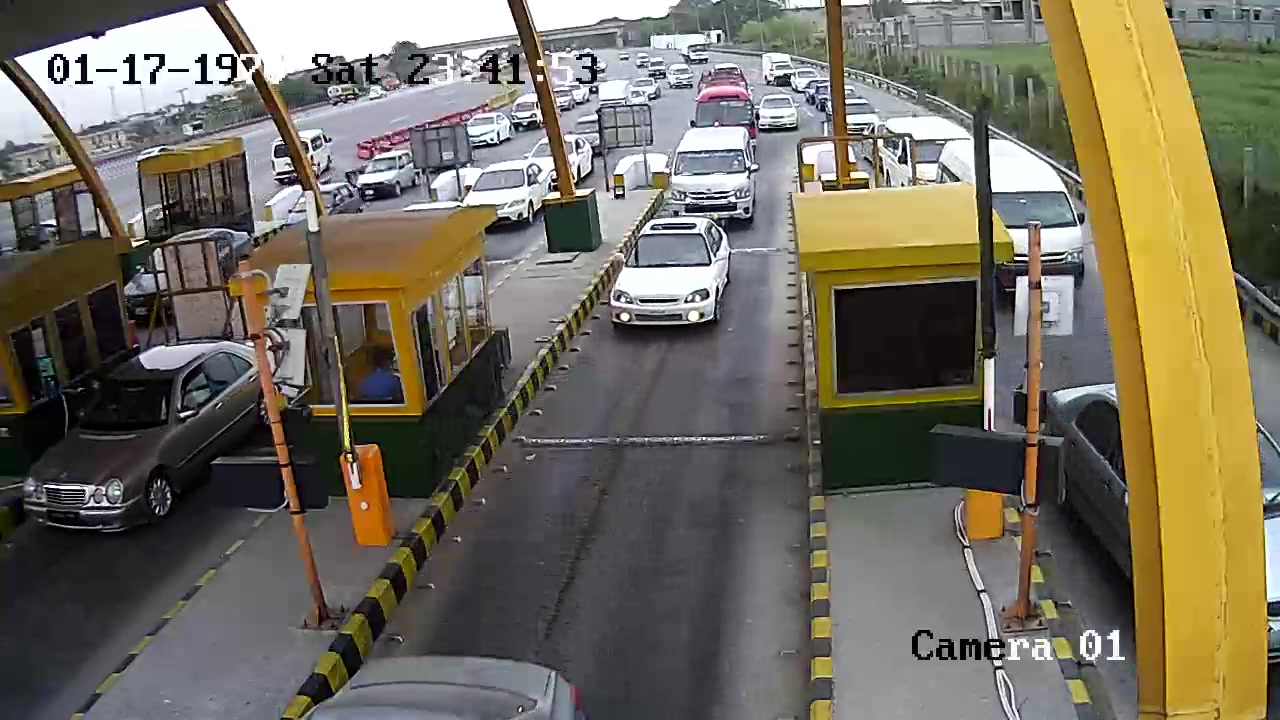F1: (594, 208, 741, 359)
